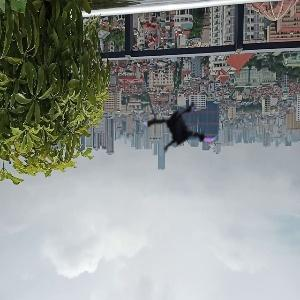drone: (135, 82, 224, 171)
